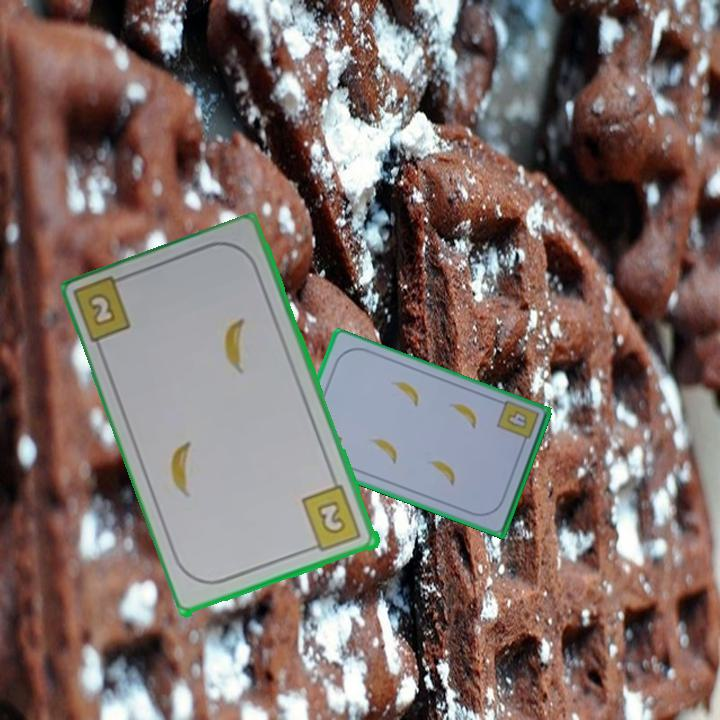2b: (298, 482, 365, 555), (88, 293, 120, 330)
4b: (493, 397, 542, 450)
